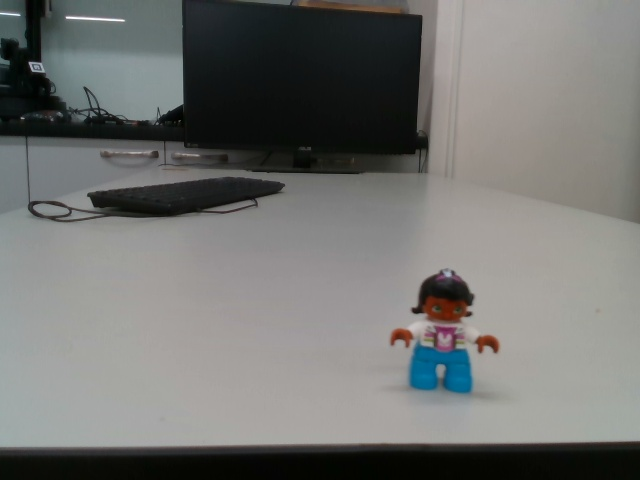people: (388, 268, 502, 394)
